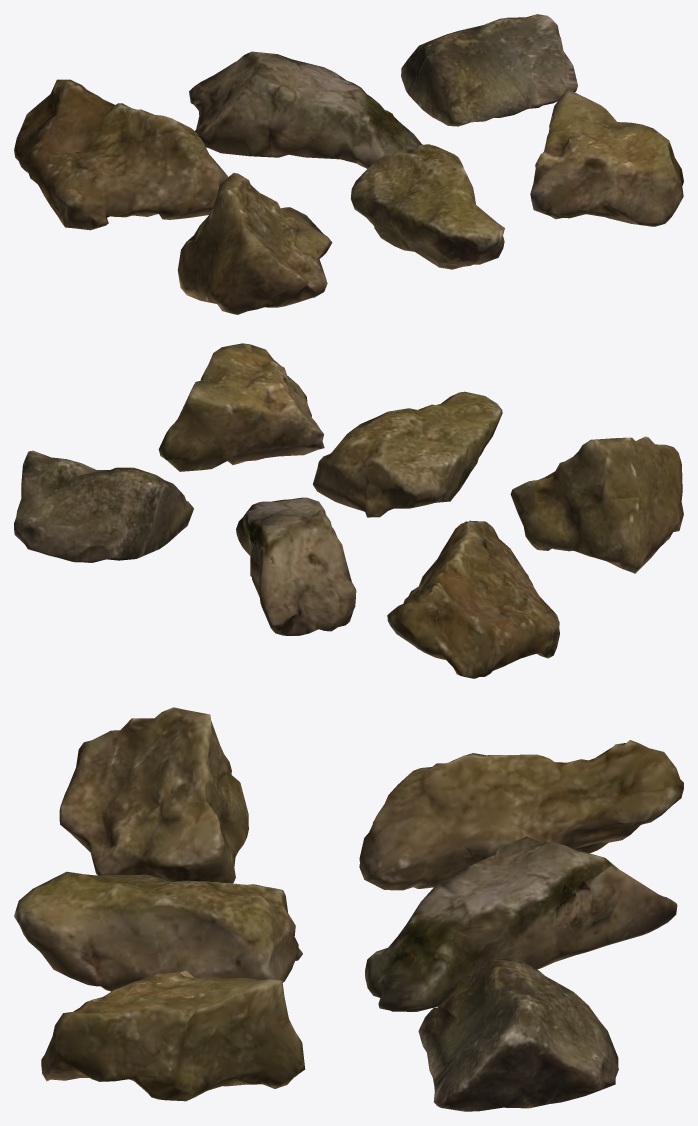
The model's file is rock_moss_set_01.glb.
3 views of the same model, one above another, from view 1: azimuth 30°, elevation 25°; view 2: azimuth 150°, elevation 25°; view 3: azimuth 270°, elevation 25° (orthographic). The views are drawn at different scales.
Visible parts, largest first — view 1: rock_moss_set_01_rock01; view 2: rock_moss_set_01_rock01; view 3: rock_moss_set_01_rock01.
Part boxes in pixels (left/top/right/bottom): rock_moss_set_01_rock01: left=14, top=14, right=683, bottom=314; rock_moss_set_01_rock01: left=14, top=343, right=683, bottom=678; rock_moss_set_01_rock01: left=14, top=707, right=683, bottom=1111.
Size of the model in its own units: 8 by 1.76 by 6.94.
1 material, 1 textured.
